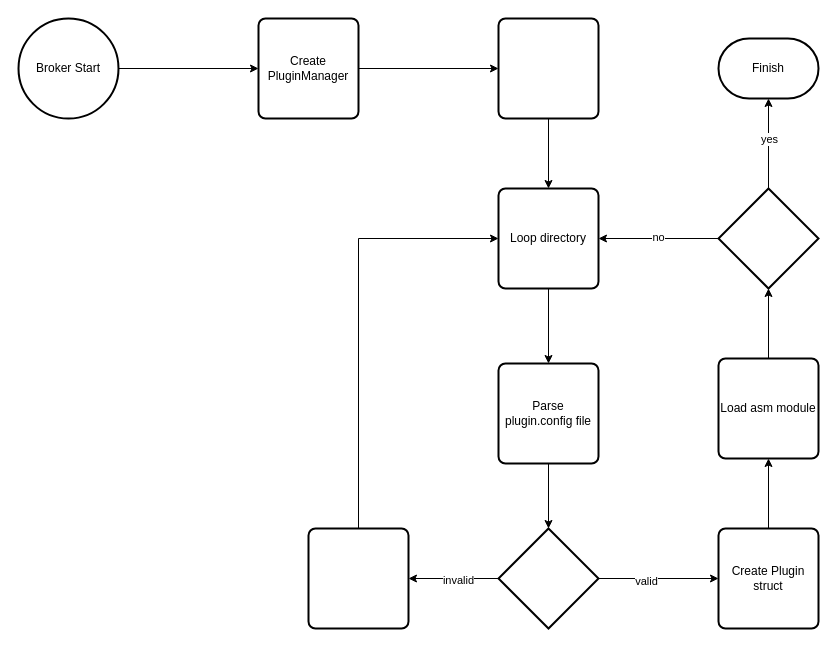
This 836x646 diagram has some shape labels left out. The shapes that lost their labels are listed below. From the top down, each one's centre as x and y in pixels, then its label:
At [548,68]: "Scan Plugin Directory".
At [768,238]: "All finish".
At [358,578]: "Log error info and break current flow".
At [548,578]: "Check invalid".
